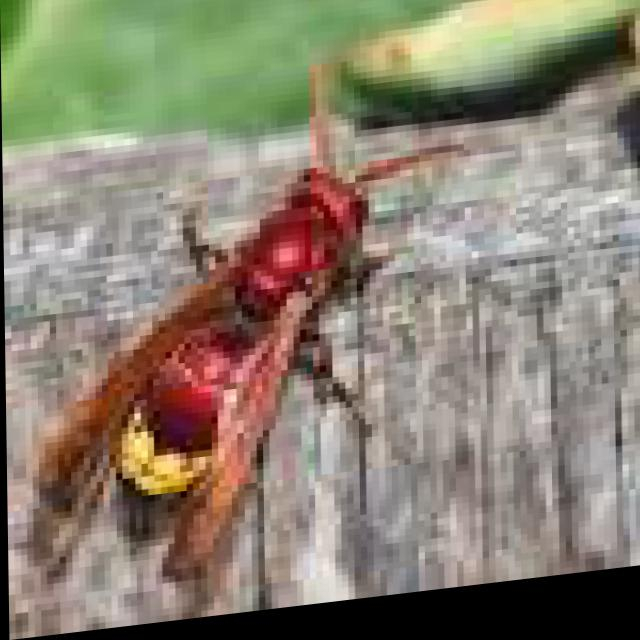Vespa Orientalis: (1, 23, 493, 625)
